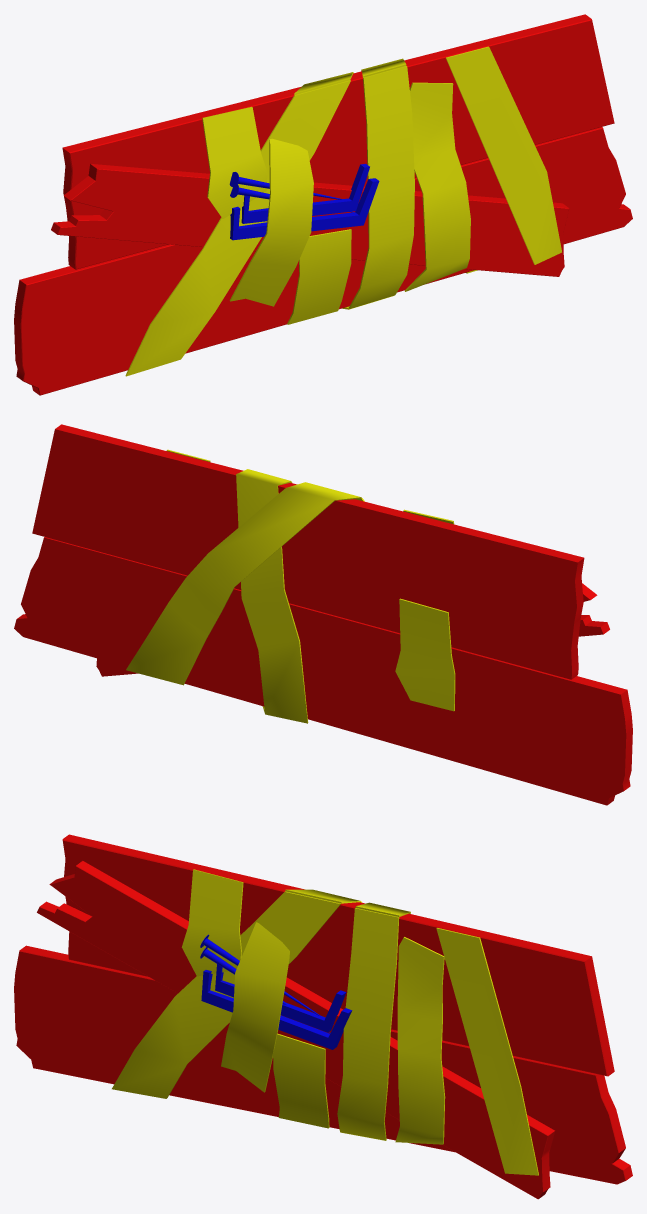
File: planche_item_low.fbx
The picture shows the model from 3 angles, top to bottom: view 1: azimuth 30°, elevation 25°; view 2: azimuth 150°, elevation 25°; view 3: azimuth 330°, elevation 25°; orthographic projection.
Parts seen in each view (by area): view 1: pPlane2, pPlane1, pPlane3, pPlane4, pPlane8, pPlane10, pPlane9, pPlane7, pPlane5, pPlane6, pPlane11, pPlane16; view 2: pPlane1, pPlane2, pPlane14, pPlane13, pPlane15, pPlane3; view 3: pPlane2, pPlane1, pPlane3, pPlane8, pPlane4, pPlane10, pPlane9, pPlane7, pPlane5, pPlane6, pPlane11, pPlane16.
Boxes of the visible parts, bbox=[...] form: pPlane2: bbox=[14, 127, 632, 395]; pPlane1: bbox=[62, 14, 614, 269]; pPlane3: bbox=[51, 164, 569, 276]; pPlane4: bbox=[125, 80, 350, 376]; pPlane8: bbox=[349, 66, 414, 309]; pPlane10: bbox=[446, 46, 561, 264]; pPlane9: bbox=[405, 82, 470, 291]; pPlane7: bbox=[229, 138, 313, 306]; pPlane5: bbox=[202, 106, 267, 218]; pPlane6: bbox=[287, 229, 351, 324]; pPlane11: bbox=[230, 178, 379, 240]; pPlane16: bbox=[241, 163, 369, 223]; pPlane1: bbox=[32, 424, 584, 679]; pPlane2: bbox=[14, 537, 632, 805]; pPlane14: bbox=[126, 482, 361, 685]; pPlane13: bbox=[236, 469, 308, 723]; pPlane15: bbox=[395, 598, 455, 711]; pPlane3: bbox=[96, 583, 609, 676]; pPlane2: bbox=[14, 945, 632, 1184]; pPlane1: bbox=[62, 834, 614, 1076]; pPlane3: bbox=[37, 861, 554, 1199]; pPlane8: bbox=[337, 908, 399, 1140]; pPlane4: bbox=[112, 891, 340, 1098]; pPlane10: bbox=[436, 928, 538, 1175]; pPlane9: bbox=[395, 937, 445, 1144]; pPlane7: bbox=[221, 922, 289, 1092]; pPlane5: bbox=[181, 869, 243, 976]; pPlane6: bbox=[273, 1033, 329, 1128]; pPlane11: bbox=[201, 970, 352, 1049]; pPlane16: bbox=[215, 964, 346, 1032].
Bounding box in the file's own units: 87.7 × 33.33 × 6.07.
